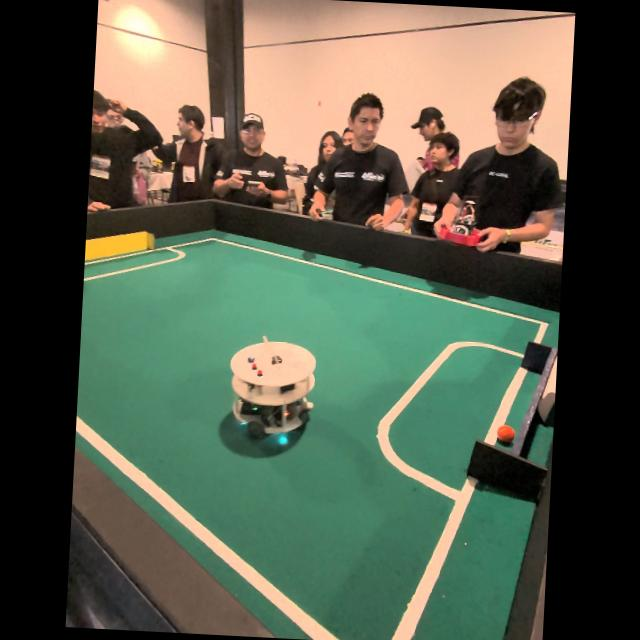ball: (497, 425, 514, 443)
goal: (467, 342, 557, 502), (84, 231, 154, 261)
robot: (229, 336, 315, 438)
